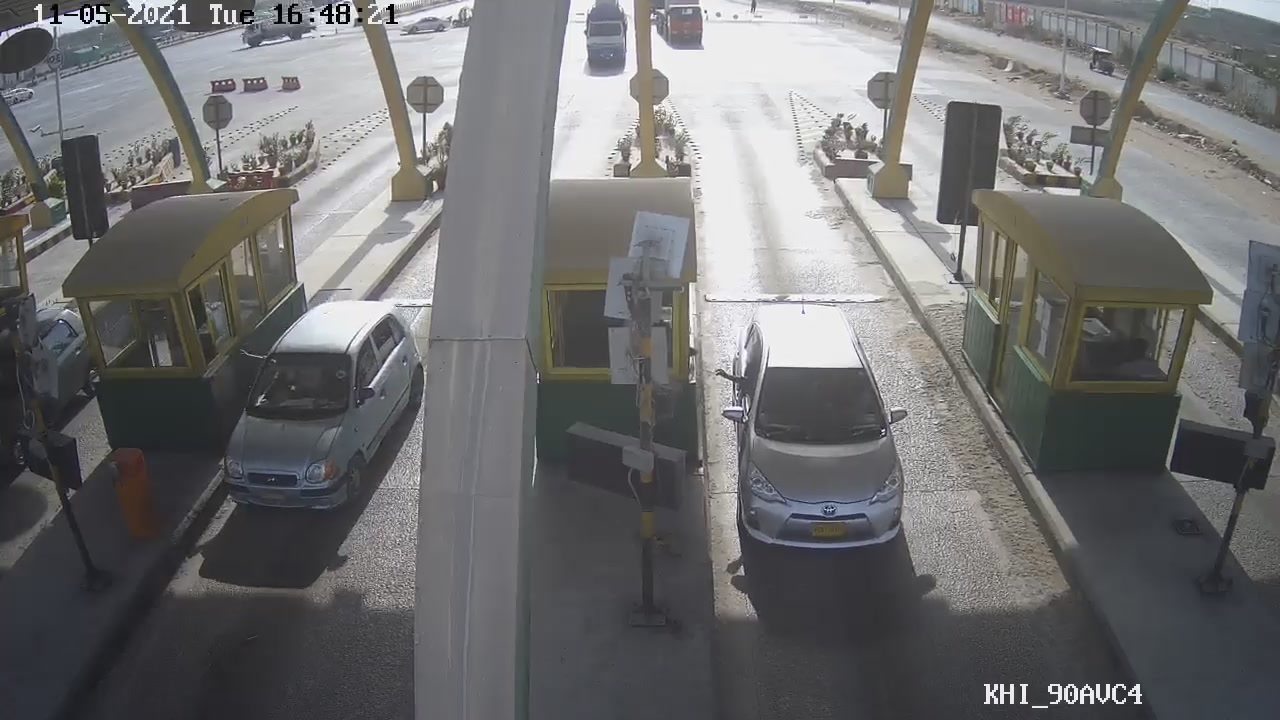F1: (723, 303, 921, 562)
